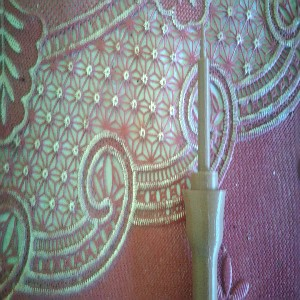solder: (181, 21, 227, 300)
